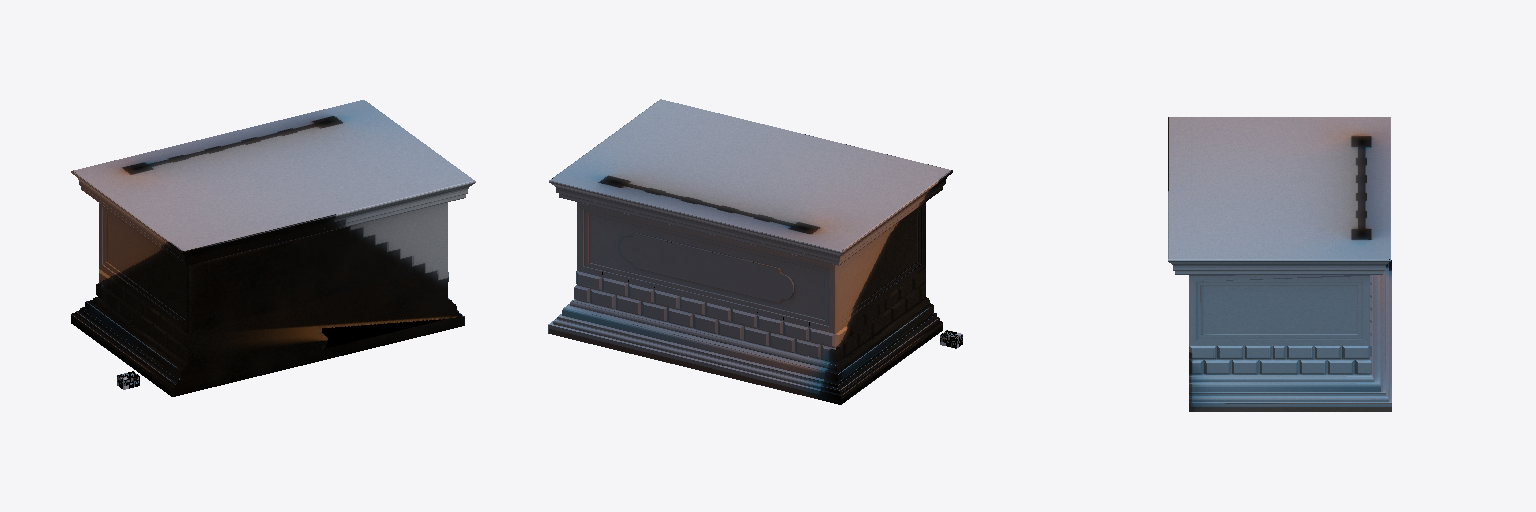
The picture shows the model from 3 angles: view 1: azimuth 30°, elevation 25°; view 2: azimuth 150°, elevation 25°; view 3: azimuth 270°, elevation 25°; orthographic projection.
Parts seen in each view (by area): view 1: Box009; view 2: Box009; view 3: Box009.
Boxes of the visible parts, <box> form: Box009: <box>71,100,475,396</box>; Box009: <box>548,99,962,404</box>; Box009: <box>1168,117,1391,411</box>.
Size of the model in its own units: 6.72 by 3 by 3.99.
Materials: 1 (1 with a texture image).